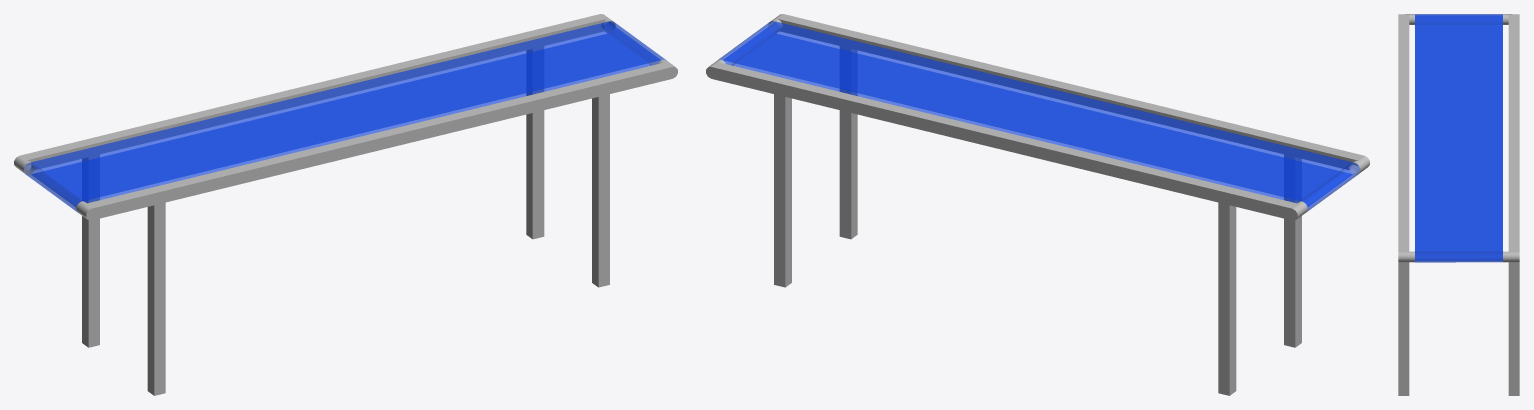
File: Conveyor.glb
3 views of the same model, side by side, from view 1: azimuth 30°, elevation 25°; view 2: azimuth 150°, elevation 25°; view 3: azimuth 270°, elevation 25° (orthographic). The views are drawn at different scales.
Parts seen in each view (by area): view 1: Solid1; view 2: Solid1; view 3: Solid1.
Part boxes in pixels (left/top/right/bottom): Solid1: left=14, top=14, right=677, bottom=395; Solid1: left=706, top=14, right=1369, bottom=395; Solid1: left=1398, top=14, right=1519, bottom=395.
Size of the model in its own units: 2.6 by 0.8505 by 0.55.
